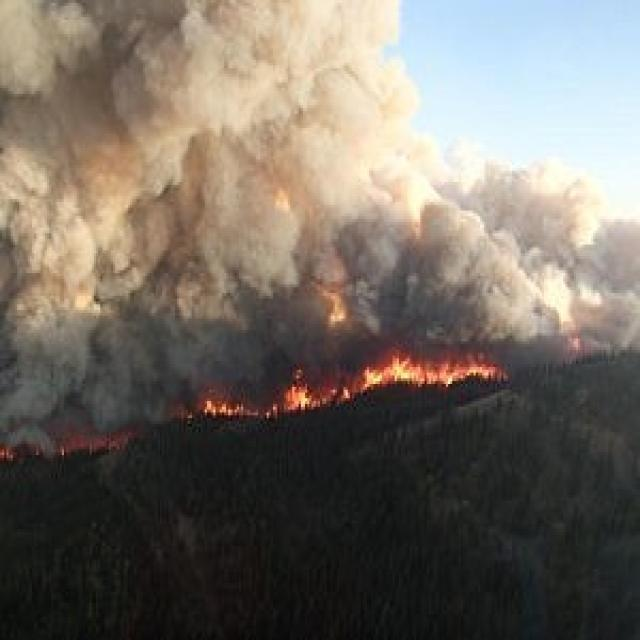Fire: (201, 342, 511, 423), (1, 414, 146, 466)
Smoke: (0, 0, 639, 459)
